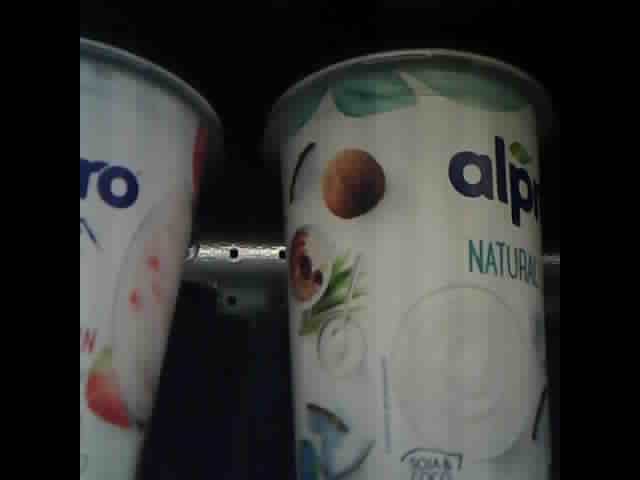alpro: (265, 47, 551, 480), (80, 34, 218, 480)
